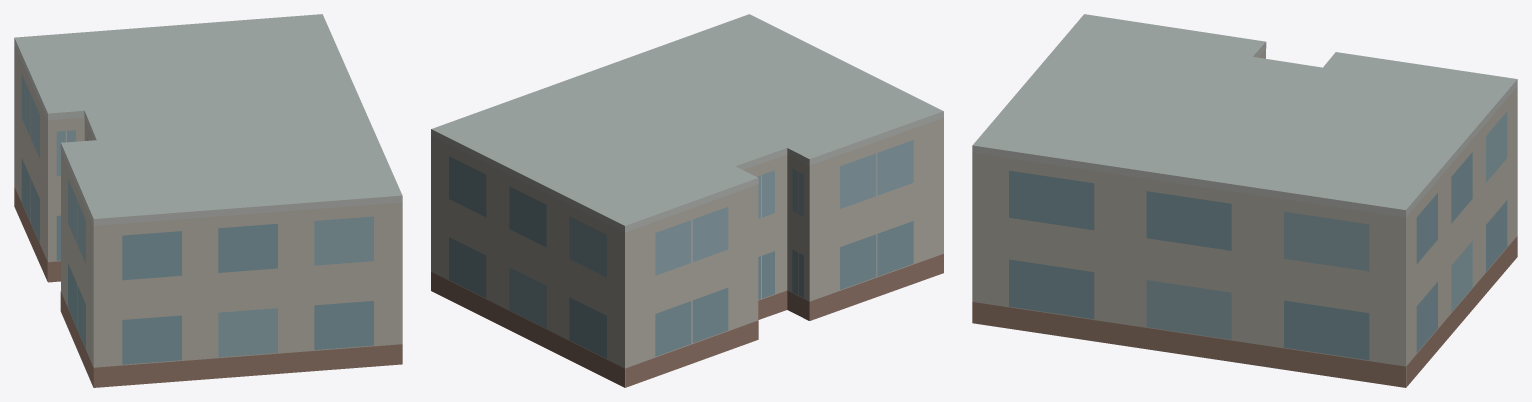
The model's file is survey-upis-32944141.glb.
3 views of the same model, side by side, from view 1: azimuth 30°, elevation 25°; view 2: azimuth 150°, elevation 25°; view 3: azimuth 270°, elevation 25° (orthographic). The views are drawn at different scales.
Parts seen in each view (by area): view 1: survey-upis-32944141.tmp; view 2: survey-upis-32944141.tmp; view 3: survey-upis-32944141.tmp.
Boxes of the visible parts, bbox=[...] form: survey-upis-32944141.tmp: bbox=[14, 14, 402, 387]; survey-upis-32944141.tmp: bbox=[431, 14, 943, 387]; survey-upis-32944141.tmp: bbox=[972, 14, 1517, 387].
Size of the model in its own units: 14.45 by 6.1 by 16.97.
